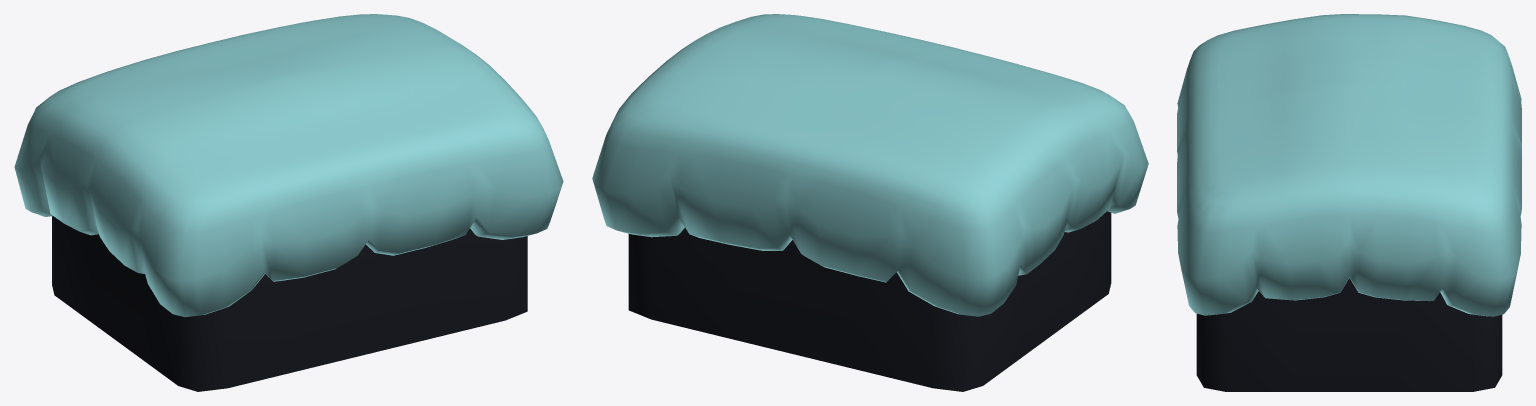
File: mur_rock_03.fbx
The picture shows the model from 3 angles, left to right: view 1: azimuth 30°, elevation 25°; view 2: azimuth 150°, elevation 25°; view 3: azimuth 270°, elevation 25°; orthographic projection.
Visible parts, largest first — view 1: Box026, Box025; view 2: Box026, Box025; view 3: Box026, Box025.
Boxes of the visible parts, x1,y1,x2,y2 form: Box026: (14, 14, 563, 317); Box025: (52, 216, 527, 391); Box026: (592, 14, 1148, 316); Box025: (628, 211, 1111, 391); Box026: (1177, 14, 1521, 316); Box025: (1196, 278, 1502, 391).
Size of the model in its own units: 861 by 448 by 632.
